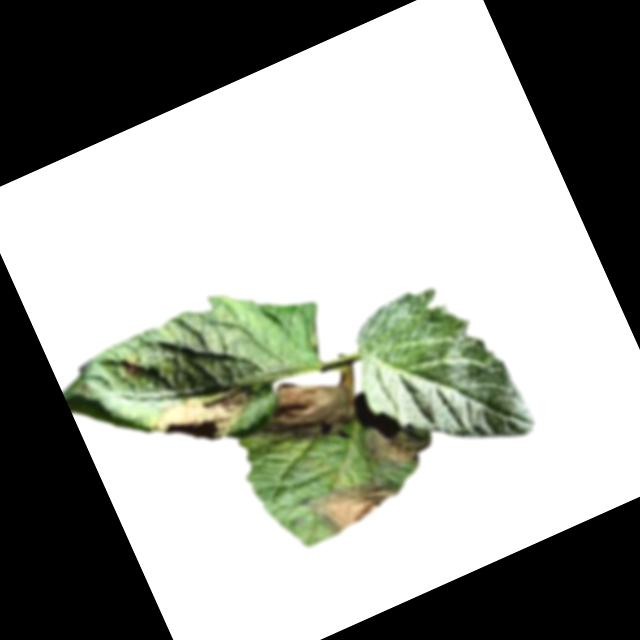Late_blight: (241, 356, 366, 461), (147, 372, 265, 463), (300, 462, 406, 544), (354, 406, 435, 481), (119, 352, 149, 383)
healthy: (331, 264, 542, 490)
